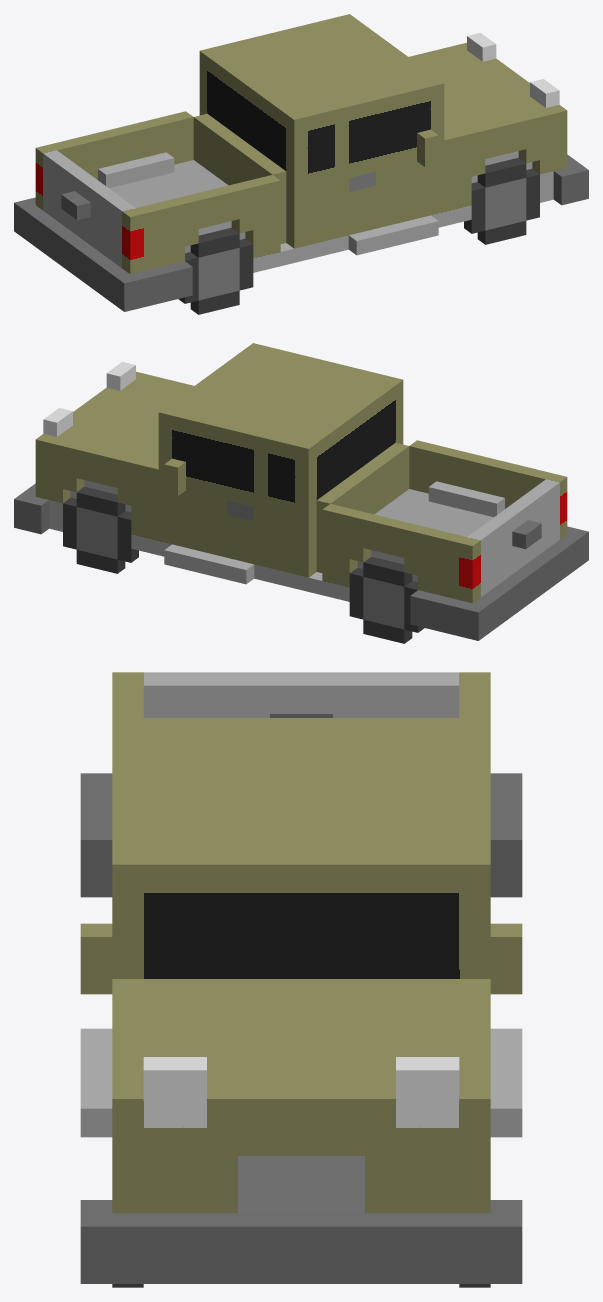
Rendered from veh_truck4.fbx.
3 renders of one model, top to bottom at view 1: azimuth 30°, elevation 25°; view 2: azimuth 150°, elevation 25°; view 3: azimuth 270°, elevation 25°, orthographic. The views are drawn at different scales.
Parts seen in each view (by area): view 1: veh_truck4; view 2: veh_truck4; view 3: veh_truck4.
Part boxes in pixels (bbox=[...]): veh_truck4: bbox=[14, 14, 588, 314]; veh_truck4: bbox=[14, 343, 588, 643]; veh_truck4: bbox=[80, 672, 522, 1287].
Size of the model in its own units: 3.4 by 1.4 by 1.2.
Materials: 1 (1 with a texture image).
